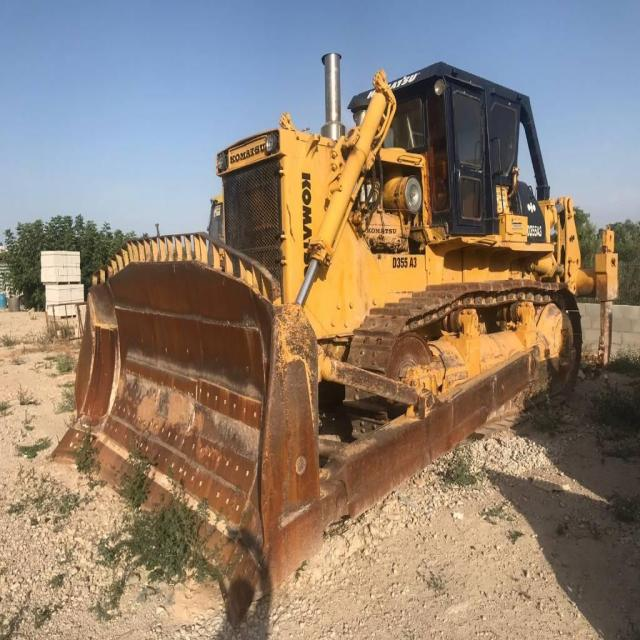buldozerpayloadergrader: (88, 24, 600, 608)
